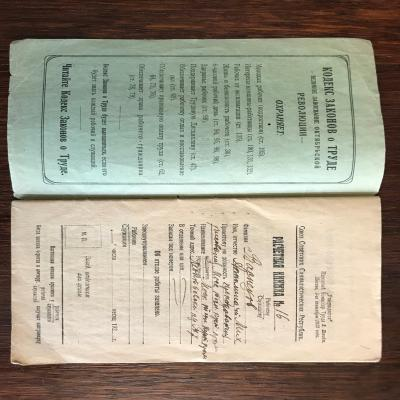document: (11, 39, 382, 362)
